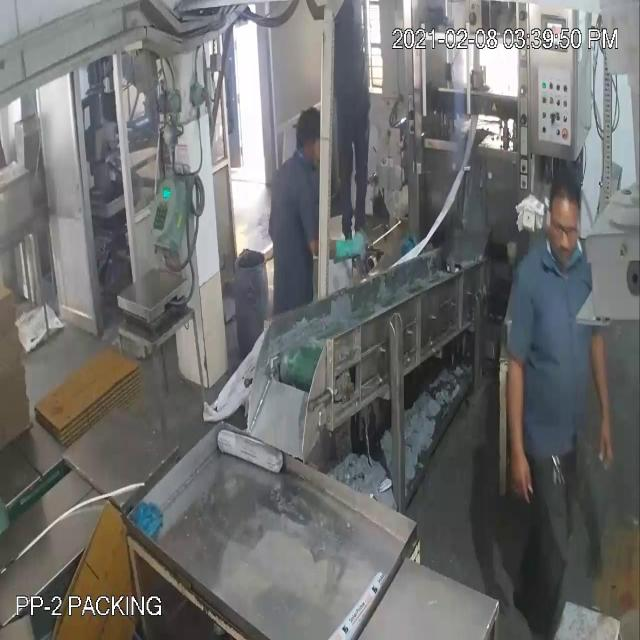gloves: (304, 222, 374, 276)
no-gloves: (492, 332, 544, 526), (586, 316, 620, 484)
